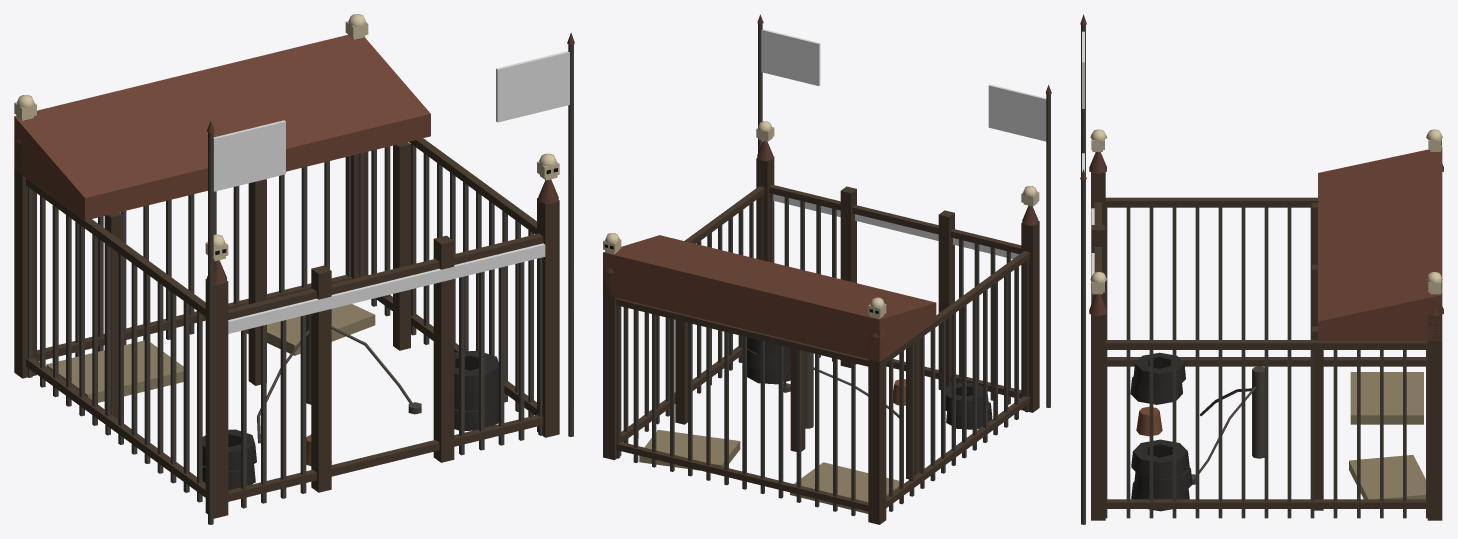
3 views of the same model, side by side, from view 1: azimuth 30°, elevation 25°; view 2: azimuth 150°, elevation 25°; view 3: azimuth 270°, elevation 25° (orthographic). The views are drawn at different scales.
Parts seen in each view (by area): view 1: raider_building_cage; view 2: raider_building_cage; view 3: raider_building_cage.
Part boxes in pixels (bbox=[...]): raider_building_cage: bbox=[14, 14, 574, 524]; raider_building_cage: bbox=[603, 14, 1051, 524]; raider_building_cage: bbox=[1080, 14, 1443, 524].
Size of the model in its own units: 5.09 by 5.35 by 4.97.
